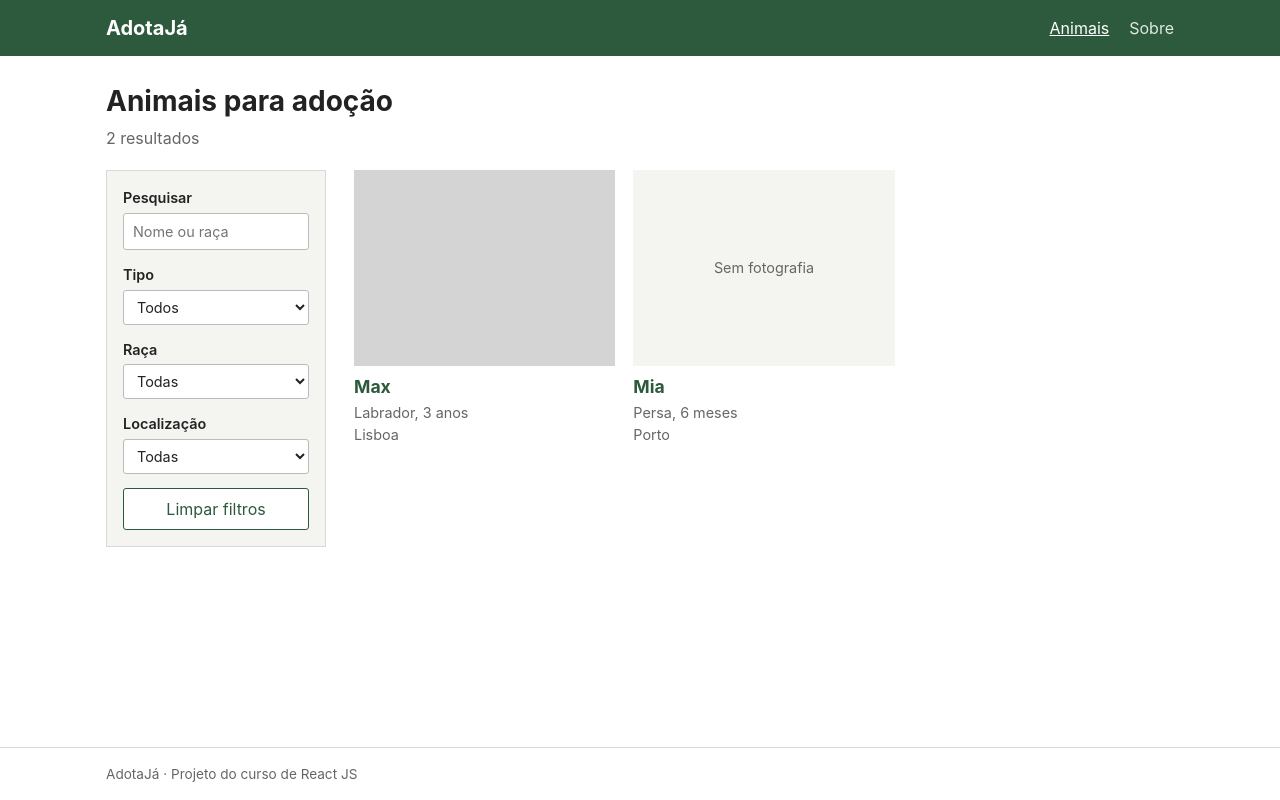
navegação › filtra por tipo
Expected: the heading "Max" is shown, [354,376,391,397]
Select "Gato" in the dropdown labelled "Tipo" at (216, 307), box [123,290,309,325]
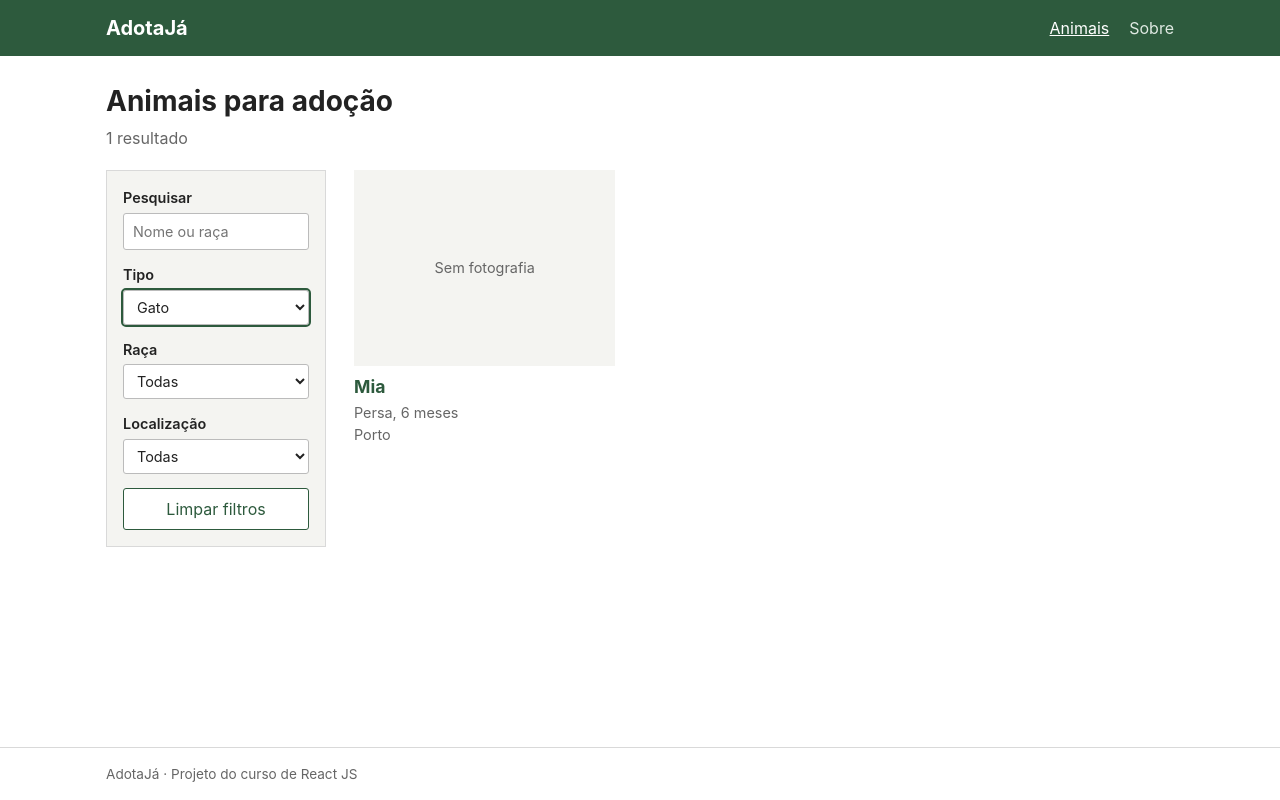
Expected: the heading "Mia" is shown, [354,376,385,397]
Expected: the link "Max" is gone
